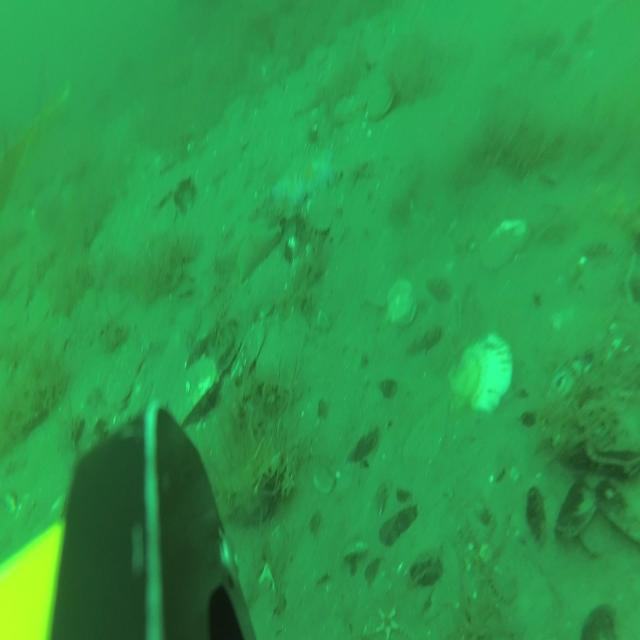scallop: (452, 334, 513, 414), (172, 358, 216, 426), (480, 215, 527, 268), (107, 353, 140, 406), (385, 278, 414, 325), (369, 81, 396, 123), (334, 95, 362, 122)
starfish: (269, 146, 331, 215), (216, 219, 284, 280)
